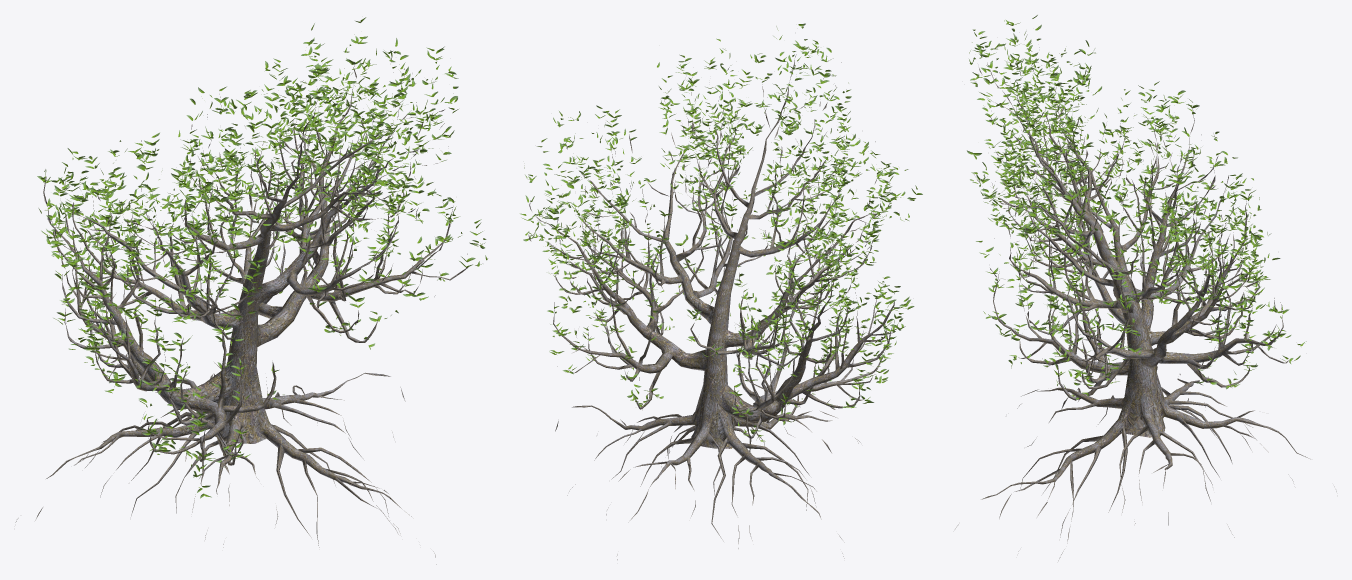
File: tree-real-a.glb
3 views of the same model, side by side, from view 1: azimuth 30°, elevation 25°; view 2: azimuth 150°, elevation 25°; view 3: azimuth 270°, elevation 25° (orthographic). The views are drawn at different scales.
Visible parts, largest first — view 1: Tree_Bark_0, Tree_Leaves_2; view 2: Tree_Bark_0, Tree_Leaves_2; view 3: Tree_Bark_0, Tree_Leaves_2.
Boxes of the visible parts, x1=… form: Tree_Bark_0: x1=15, y1=56, x2=487, y2=564; Tree_Leaves_2: x1=37, y1=17, x2=487, y2=498; Tree_Bark_0: x1=528, y1=54, x2=894, y2=559; Tree_Leaves_2: x1=519, y1=23, x2=922, y2=441; Tree_Bark_0: x1=955, y1=38, x2=1336, y2=560; Tree_Leaves_2: x1=967, y1=15, x2=1306, y2=399.
Bounding box in the file's own units: 6.44 × 8.37 × 5.99.
Materials: 2 (2 with a texture image).
